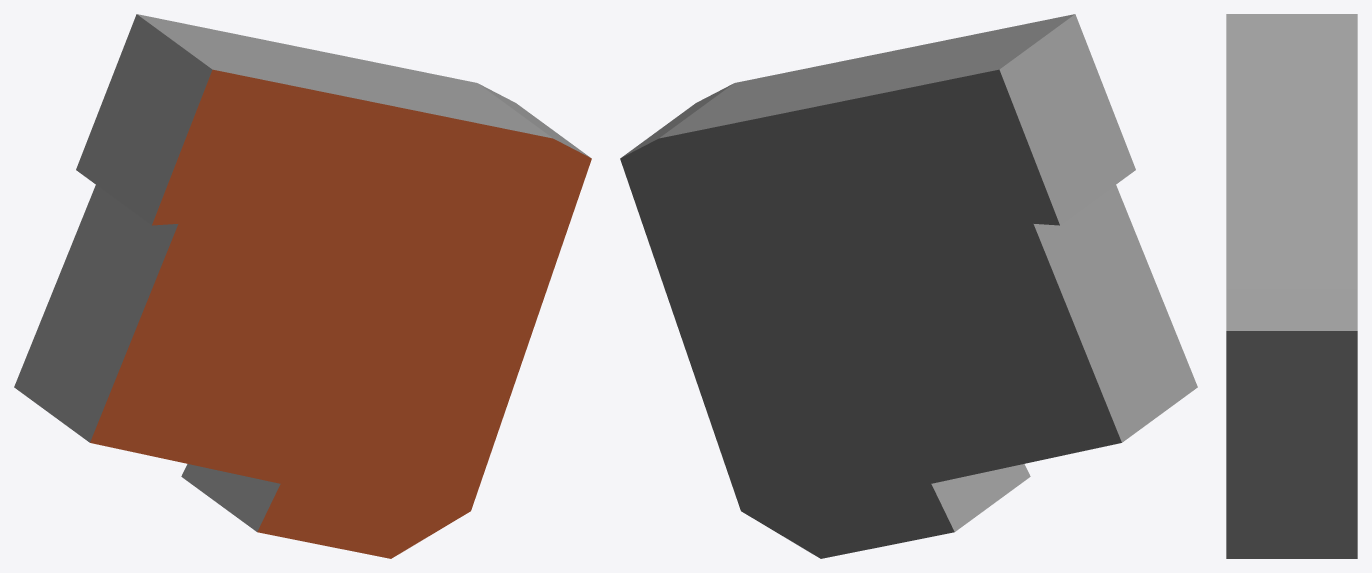
The model's file is construction_1655_assumed_A_Casa_h6m.obj.
3 renders of one model, left to right at view 1: azimuth 30°, elevation 25°; view 2: azimuth 150°, elevation 25°; view 3: azimuth 270°, elevation 25°, orthographic. The views are drawn at different scales.
Parts seen in each view (by area): view 1: construction_1655_assumed_A_Casa; view 2: construction_1655_assumed_A_Casa; view 3: construction_1655_assumed_A_Casa.
Boxes of the visible parts, box(x1,y1,x2,y2) form: construction_1655_assumed_A_Casa: box(14, 14, 591, 558); construction_1655_assumed_A_Casa: box(620, 14, 1197, 558); construction_1655_assumed_A_Casa: box(1226, 14, 1357, 558).
Size of the model in its own units: 22.9 by 23.23 by 6.
